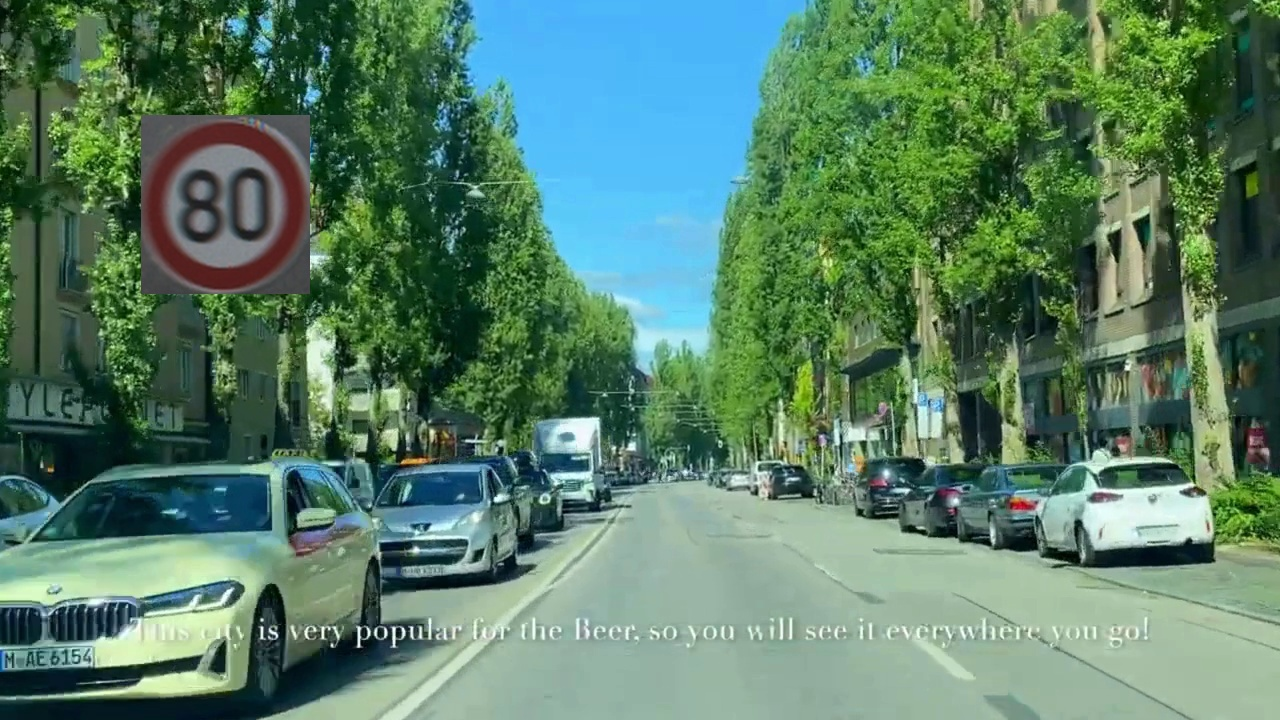Speed 80: (141, 115, 310, 294)
